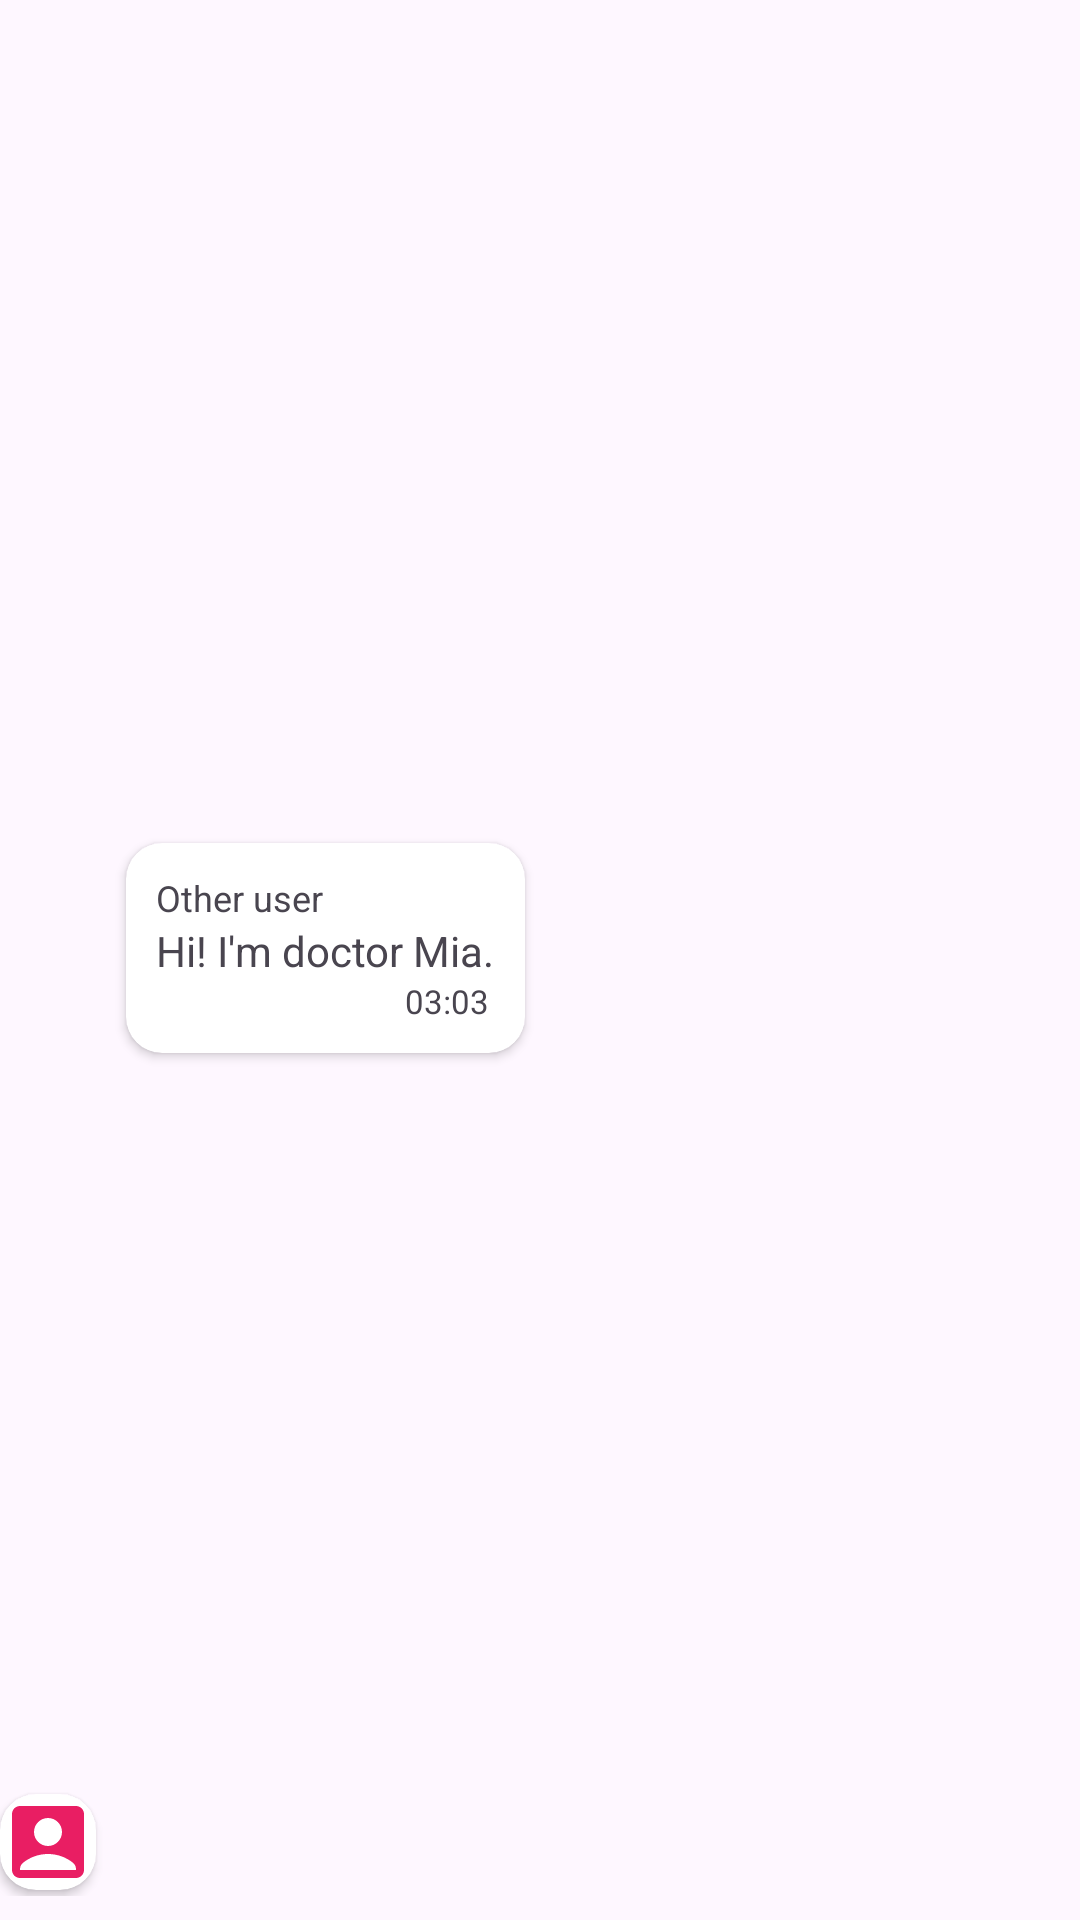

Where to tap for icons on this 1080w x 1920h app screen, as (x=x, y=y):
account box: (x=52, y=1842)
